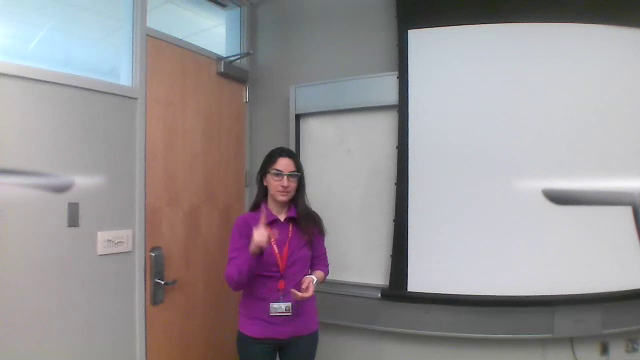up: (248, 202, 277, 253)
